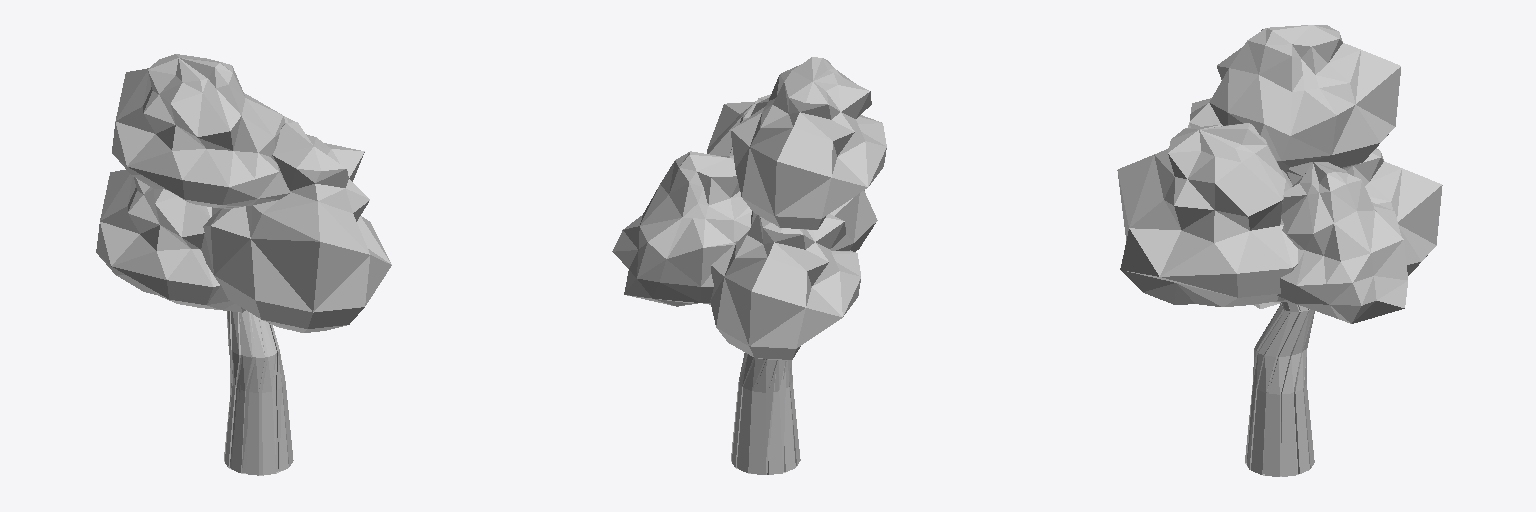
File: Tree3.obj
The picture shows the model from 3 angles: view 1: azimuth 30°, elevation 25°; view 2: azimuth 150°, elevation 25°; view 3: azimuth 270°, elevation 25°; orthographic projection.
Parts seen in each view (by area): view 1: polySurface22; view 2: polySurface22; view 3: polySurface22.
Part boxes in pixels (x1,y1,x2,y2): polySurface22: (96,54,391,475); polySurface22: (612,57,886,474); polySurface22: (1117,25,1442,476).
Bounding box in the file's own units: 7.58 × 12.98 × 9.3.